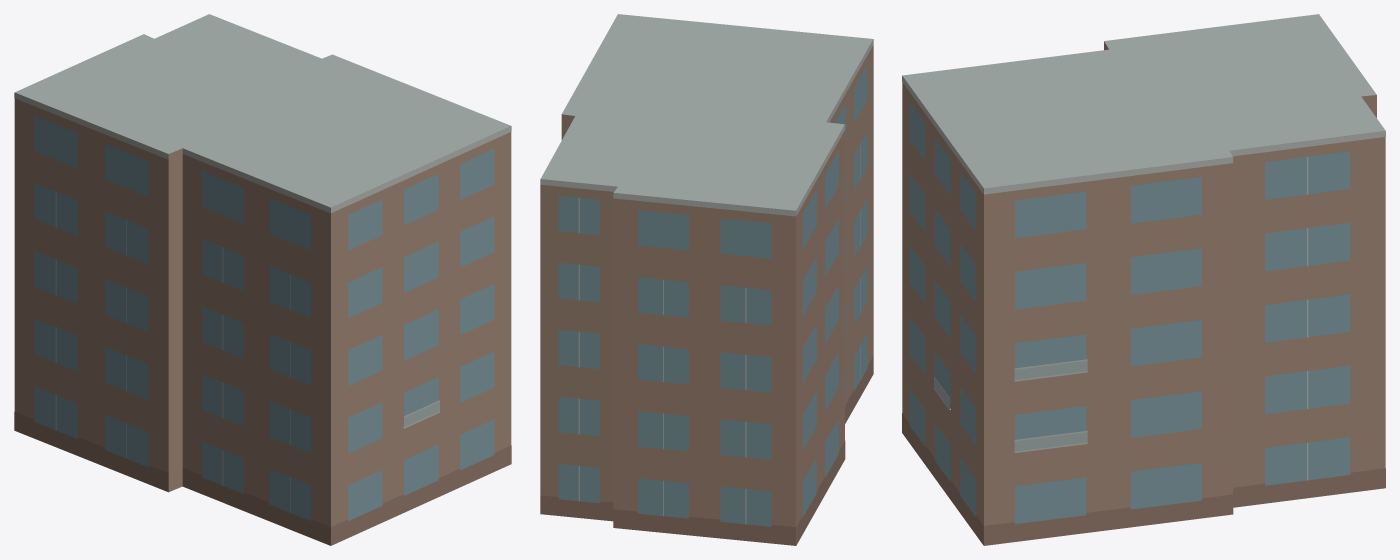
The model's file is survey-upis-32981428.glb.
The picture shows the model from 3 angles, left to right: view 1: azimuth 30°, elevation 25°; view 2: azimuth 150°, elevation 25°; view 3: azimuth 270°, elevation 25°; orthographic projection. The views are drawn at different scales.
Visible parts, largest first — view 1: survey-upis-32981428.tmp; view 2: survey-upis-32981428.tmp; view 3: survey-upis-32981428.tmp.
Boxes of the visible parts, <box> form: survey-upis-32981428.tmp: <box>14,14,511,545</box>; survey-upis-32981428.tmp: <box>540,14,873,545</box>; survey-upis-32981428.tmp: <box>902,14,1385,545</box>.
Bounding box in the file's own units: 15.04 × 14.35 × 17.61.
